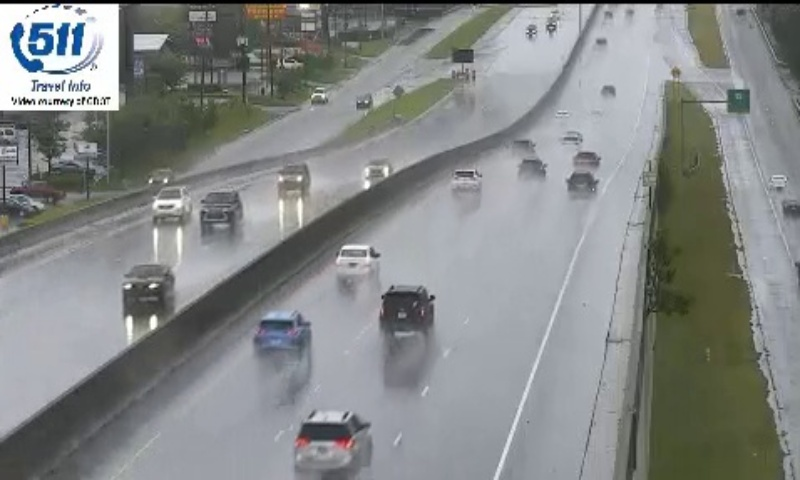car: (292, 411, 371, 476), (380, 285, 435, 333), (252, 312, 311, 352), (334, 243, 378, 278), (450, 167, 482, 190), (567, 173, 595, 198), (518, 157, 546, 180), (573, 149, 599, 169)
